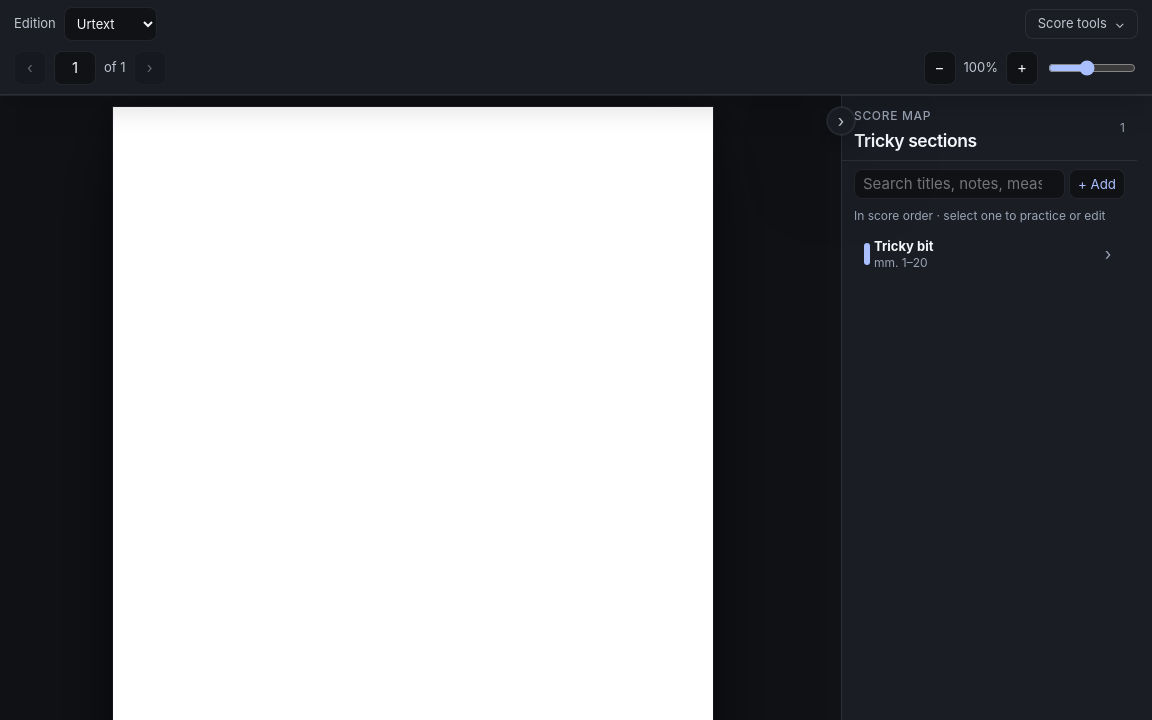
Test: ScoreView › Task B1: sub-sections are findable › distinguishes 'no sections yet' from 'nothing matched your search'
The width and height of the screenshot is (1152, 720).
Expected: the element named "Score page 1" is shown, top-left (113, 107), bottom-right (713, 719)
In the search field named "search tricky sections": (959, 184) top-left (854, 169), bottom-right (1065, 199), type "zzzz"
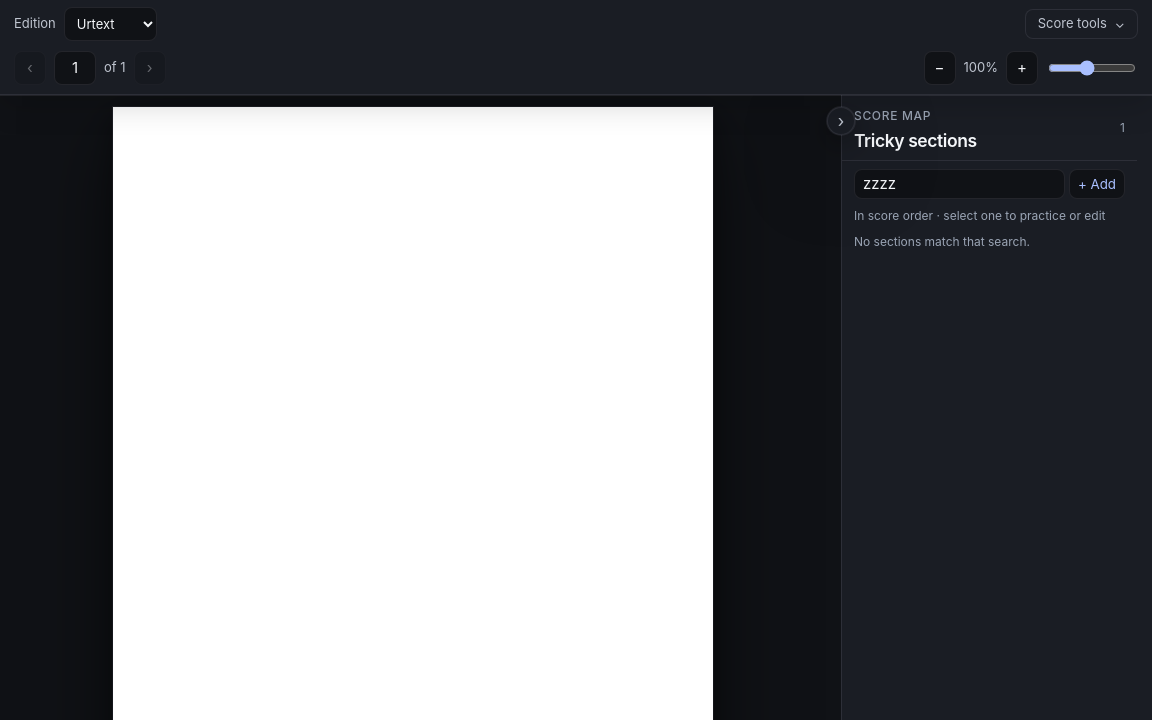
Expected: the text "No sections match that search." is shown, top-left (854, 234), bottom-right (1030, 249)
